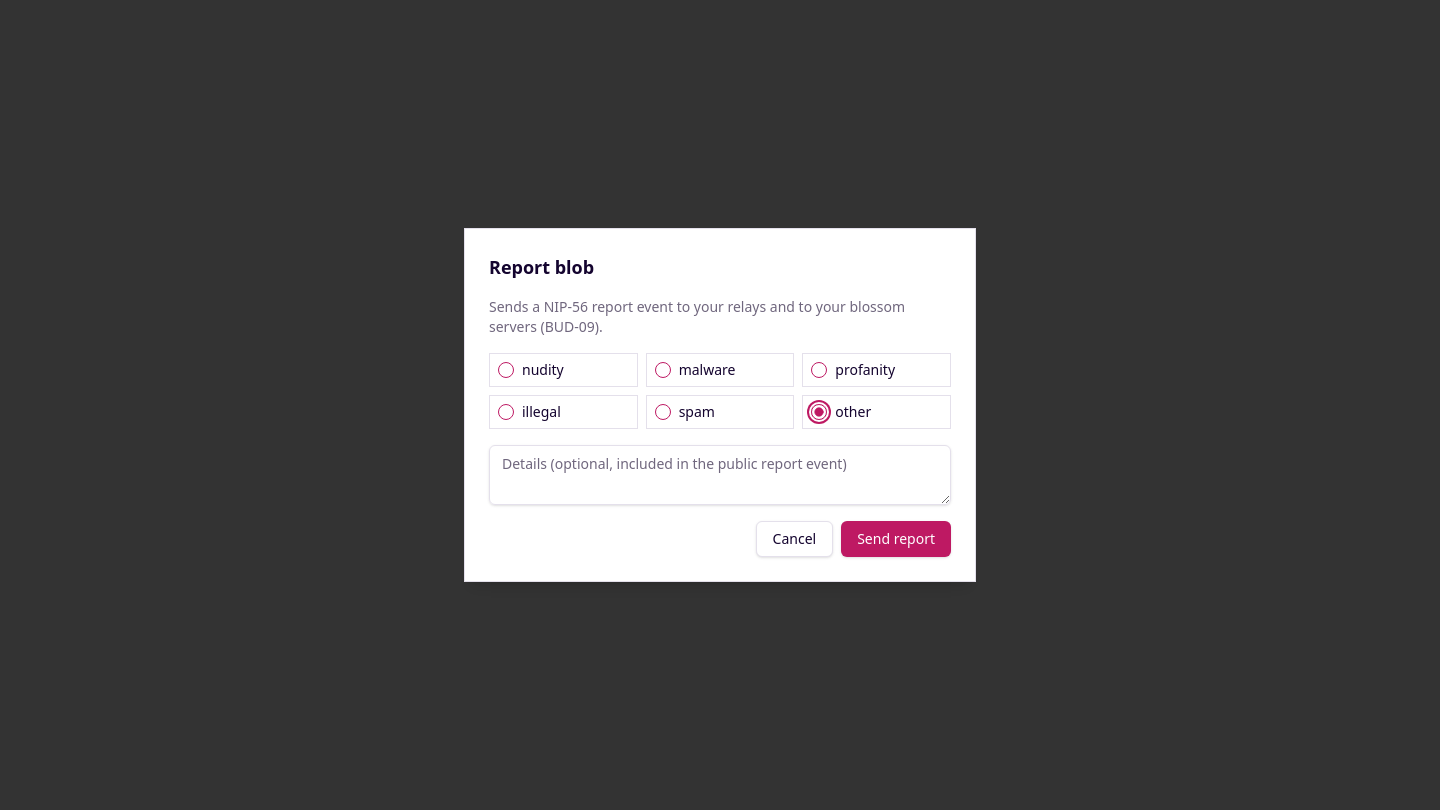
Scenario: ReportDialog › keeps the dialog open and lists the failed server distinctly when one server rejects
Click the button "Send report" at {"x": 896, "y": 539}, box [841,521,951,557]
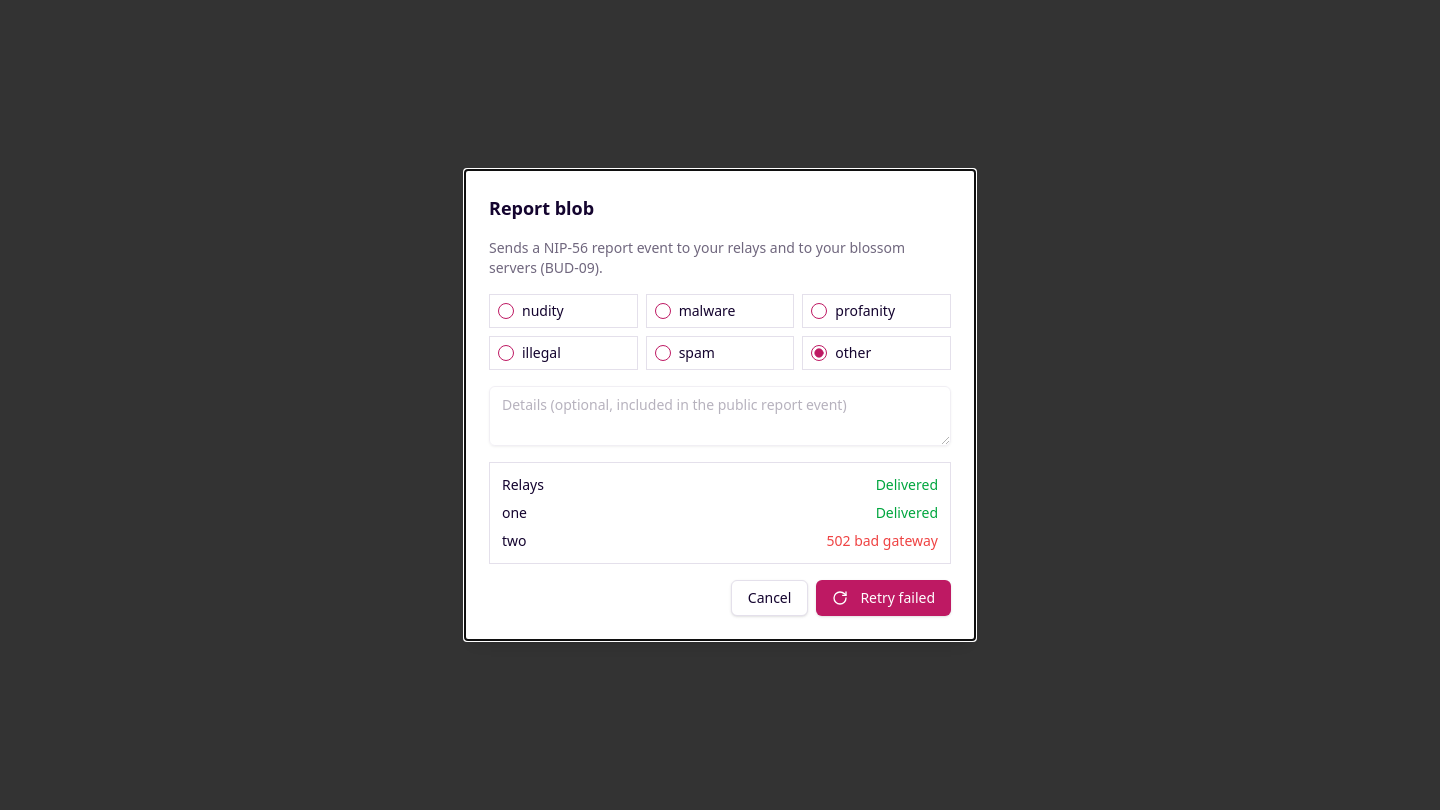
Expected: the text "502 bad gateway" is shown, [826,531,938,551]
Expected: the button "Retry failed" is shown, [816,580,951,616]
